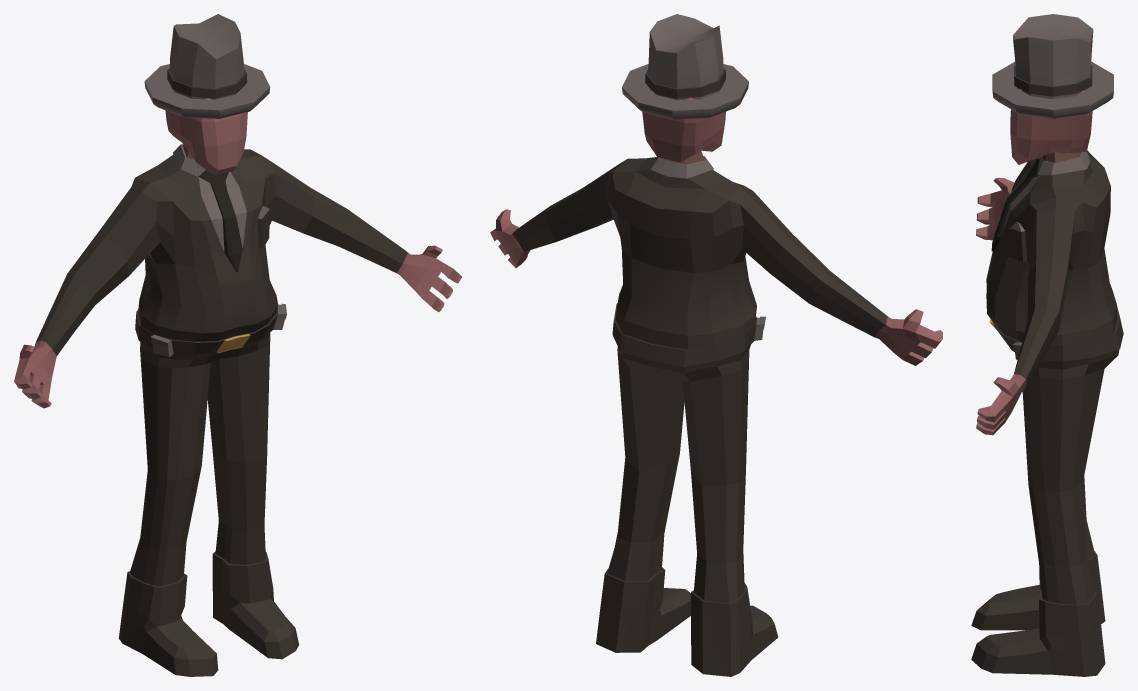
Rendered from Character_Antonio.fbx.
3 views of the same model, side by side, from view 1: azimuth 30°, elevation 25°; view 2: azimuth 150°, elevation 25°; view 3: azimuth 270°, elevation 25° (orthographic).
Visible parts, largest first — view 1: Character_Antonio; view 2: Character_Antonio; view 3: Character_Antonio.
Part boxes in pixels (x1,y1,x2,y2): Character_Antonio: (14,14,461,676); Character_Antonio: (490,14,942,676); Character_Antonio: (971,14,1123,676).
Bounding box in the file's own units: 115 × 151 × 33.93.
